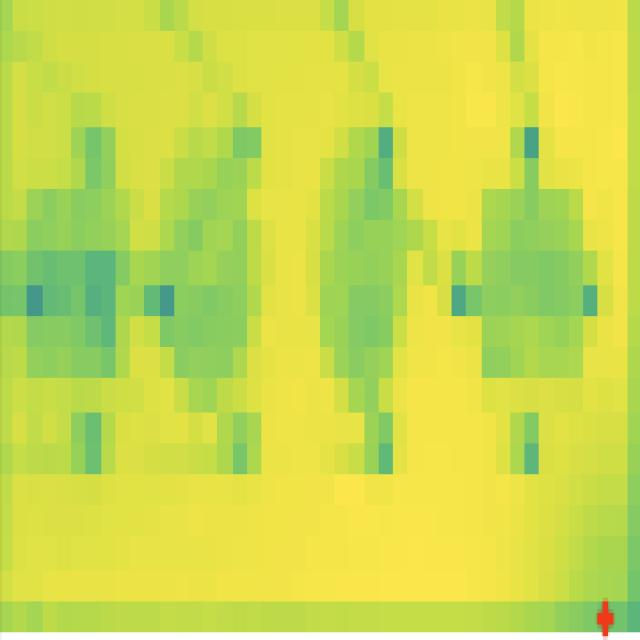Concrete: (482, 188, 582, 382)
Glass: (318, 157, 414, 411)
Metal: (25, 190, 131, 381)
Wood: (160, 157, 264, 411)
